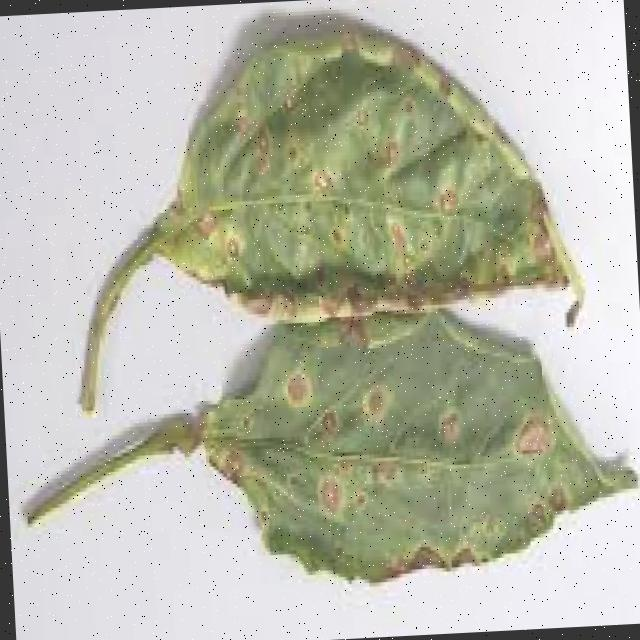leaf spot: (189, 305, 640, 633), (150, 8, 582, 326)
